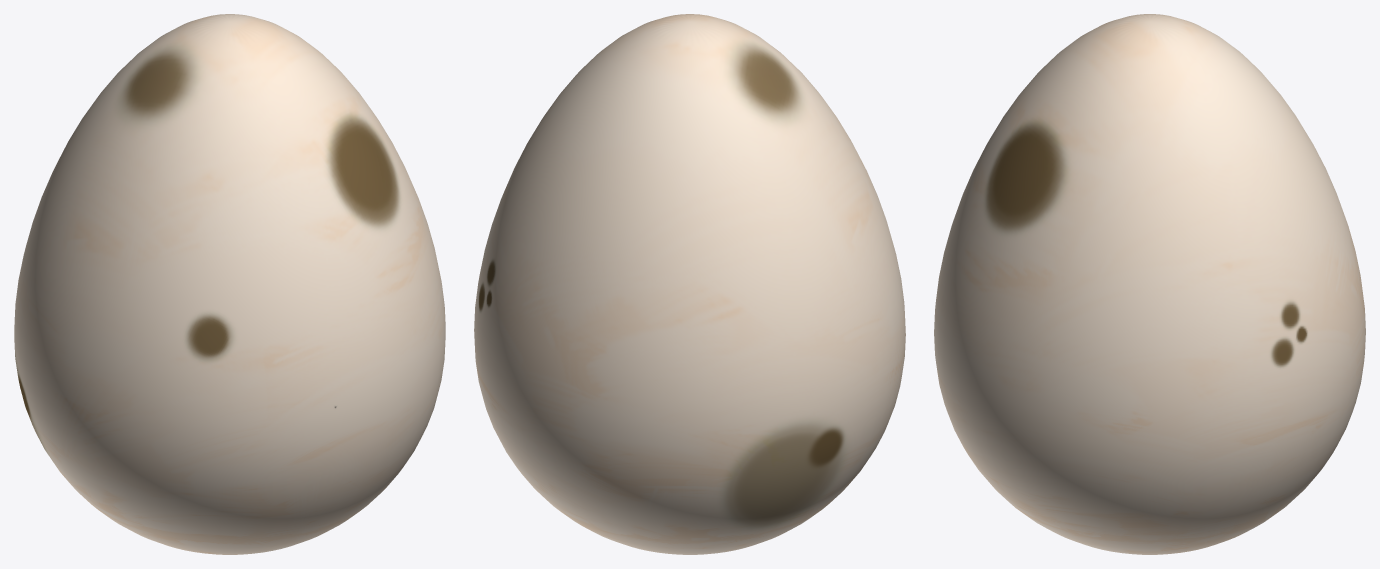
Rendered from egg.fbx.
3 renders of one model, left to right at view 1: azimuth 30°, elevation 25°; view 2: azimuth 150°, elevation 25°; view 3: azimuth 270°, elevation 25°, orthographic.
Visible parts, largest first — view 1: Egg; view 2: Egg; view 3: Egg.
Part boxes in pixels (<box>): Egg: <box>14,14,445,554</box>; Egg: <box>474,14,905,554</box>; Egg: <box>934,14,1365,554</box>.
Bounding box in the file's own units: 197 × 259 × 197.
1 material, 1 textured.
